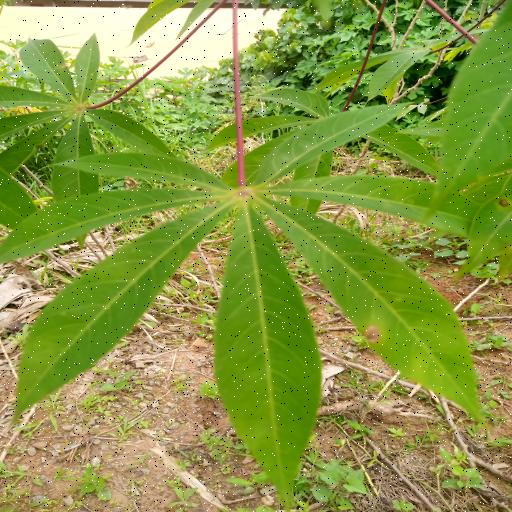Cassava_Brown_Leaf_Spot: (10, 105, 496, 492)
